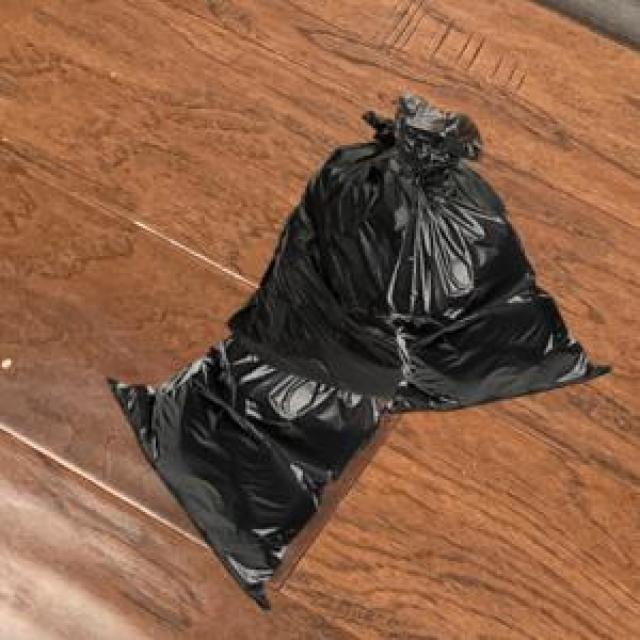waste: (110, 96, 608, 607)
